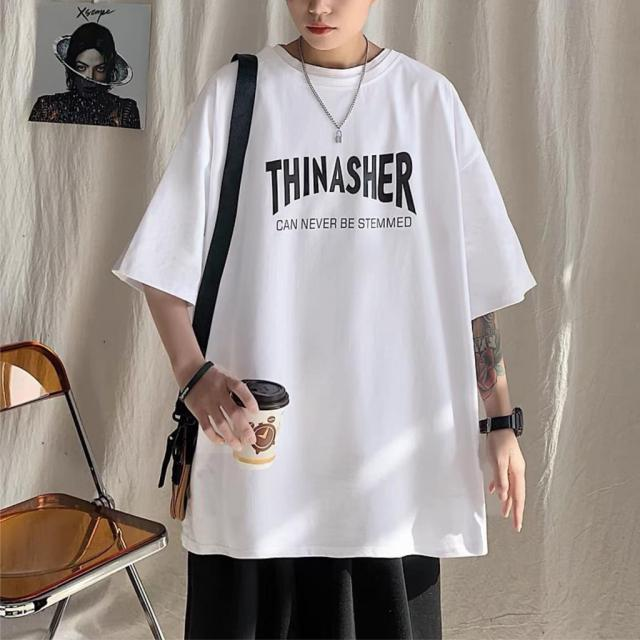Shirt: (105, 41, 548, 564)
